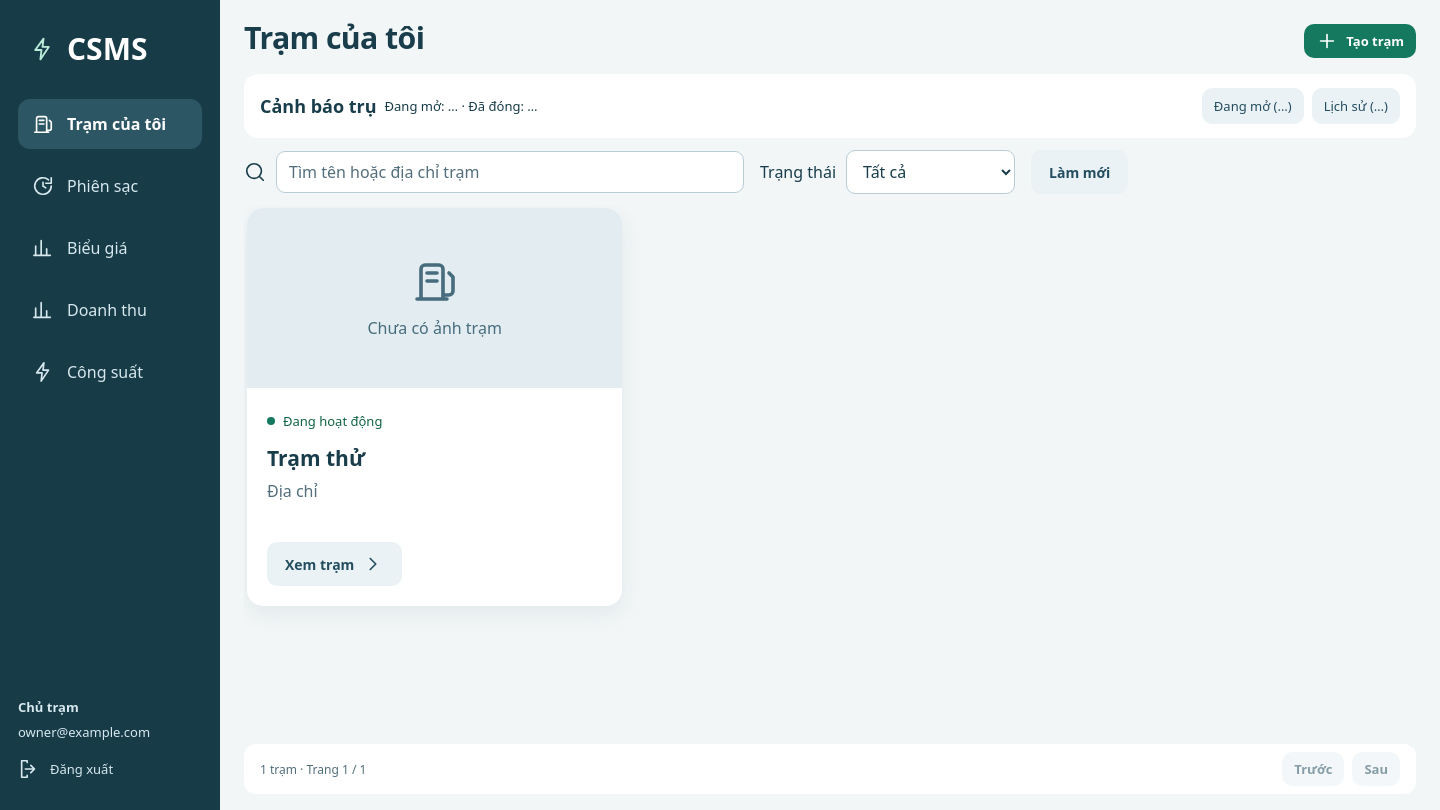
Test: finds a charger beyond the first page and reports no matching chargers
Click the button with aria-label "Xem chi tiết Trạm thử" at coordinates (335, 564), box [267,542,402,586]
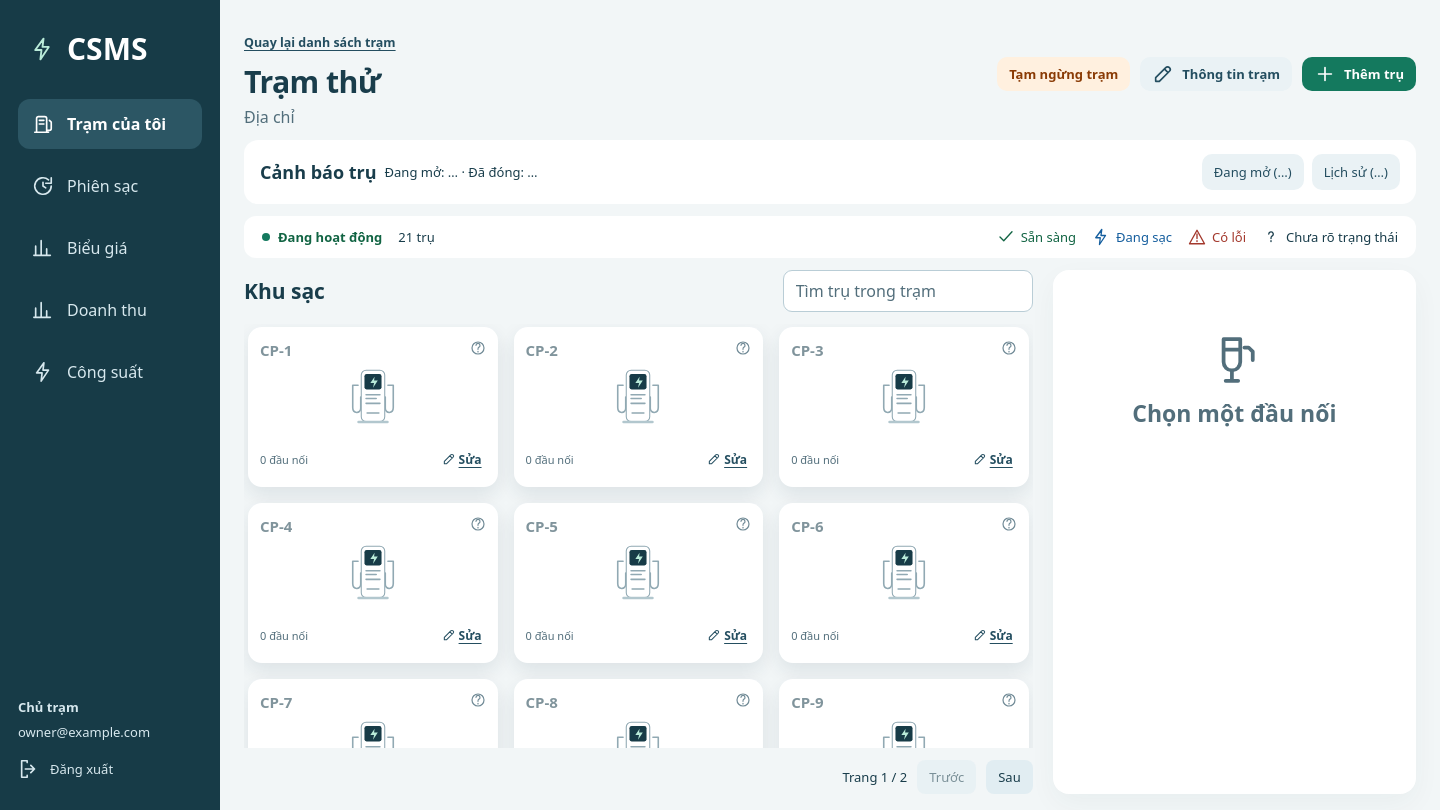
Now the button "CP-1" is shown, box [260,340,292,360]
Type "CP-21" into the search field labelled "Tìm trụ trong trạm" at coordinates (908, 291), box [783,270,1033,312]
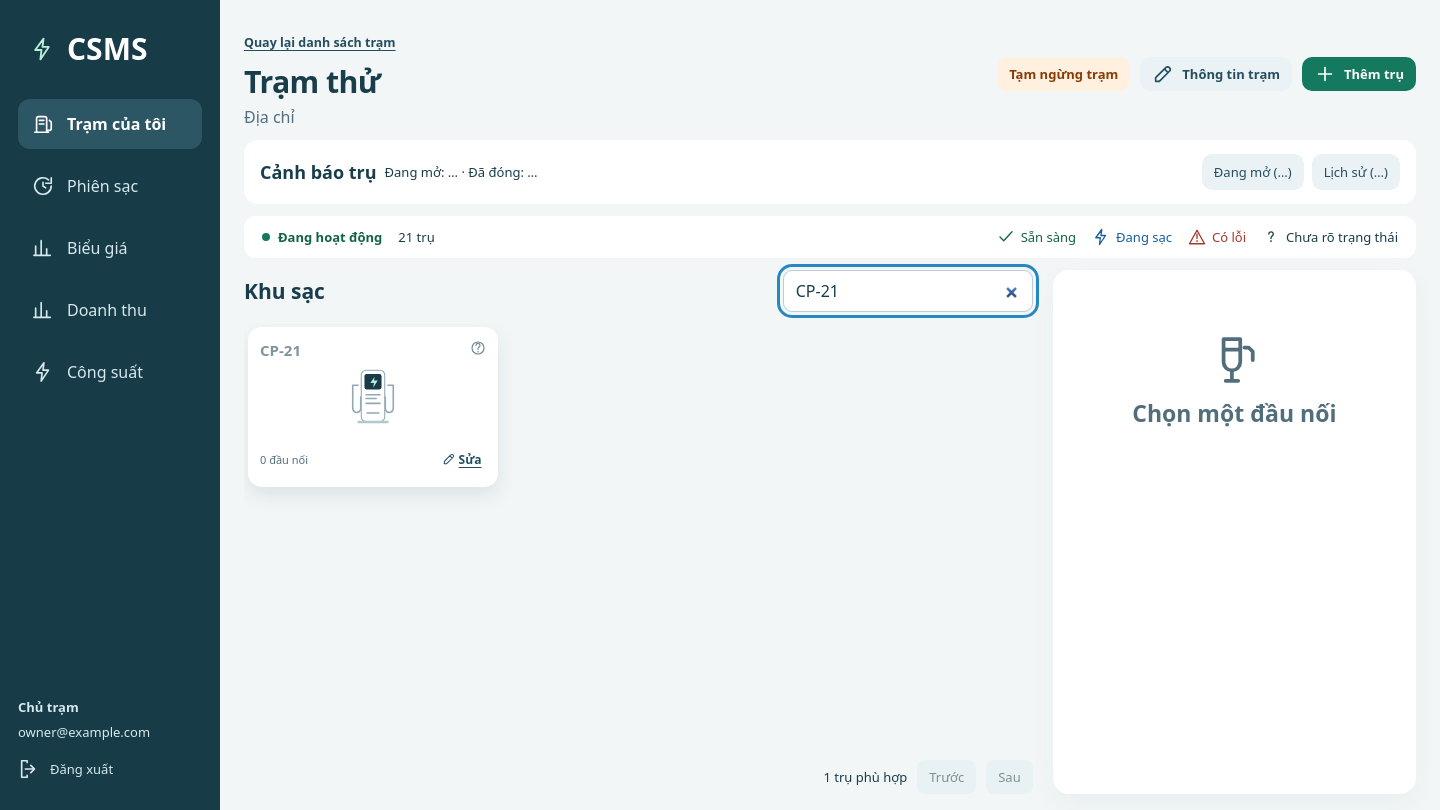
Now the button "CP-21" is shown, box [260,340,301,360]
Now the button "CP-1" is gone
Replace the text in the search field named "Tìm trụ trong trạm" with "missing" at coordinates (908, 291), box [783,270,1033,312]
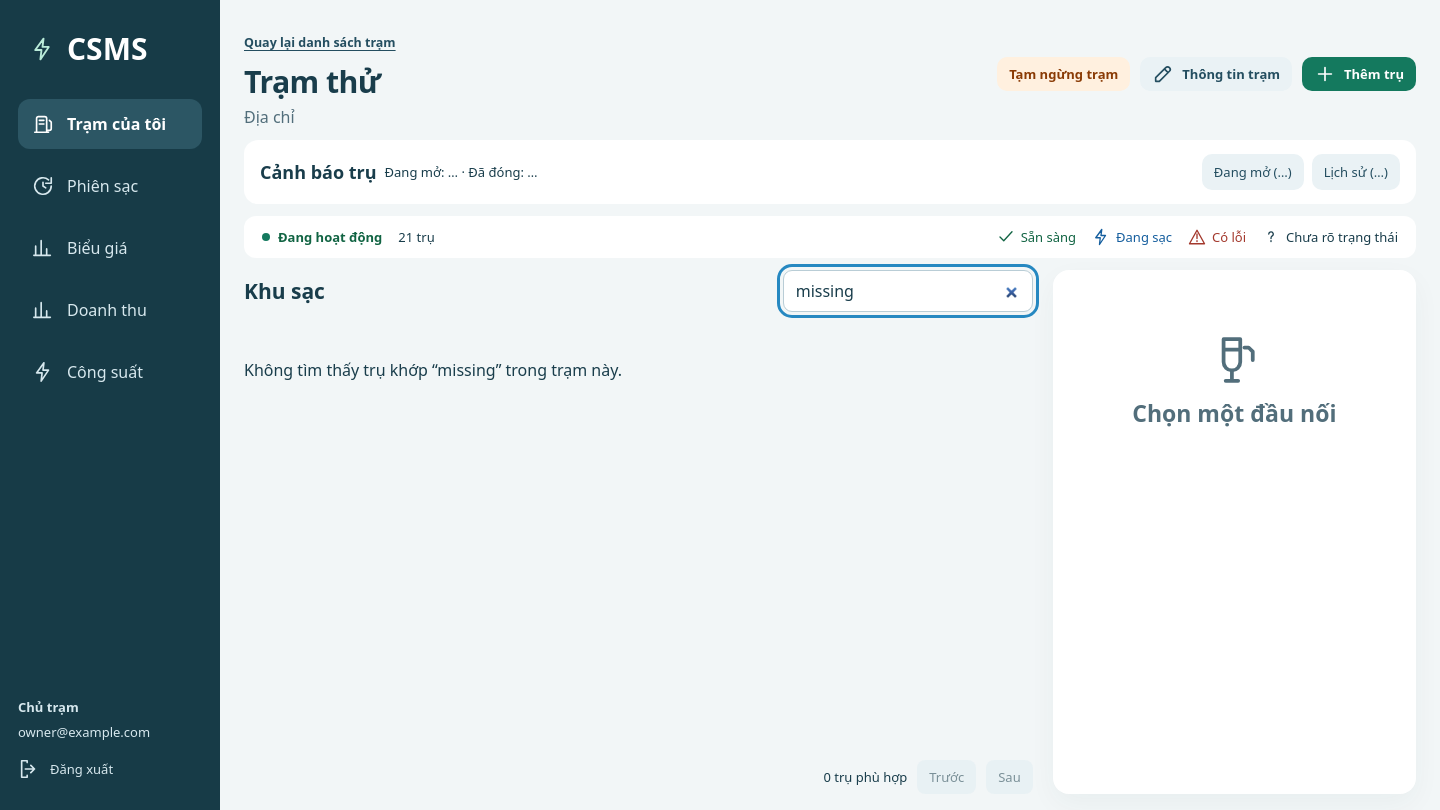
Now the text "Không tìm thấy trụ khớp “missing” trong trạm này." is shown, box [244,359,622,381]
